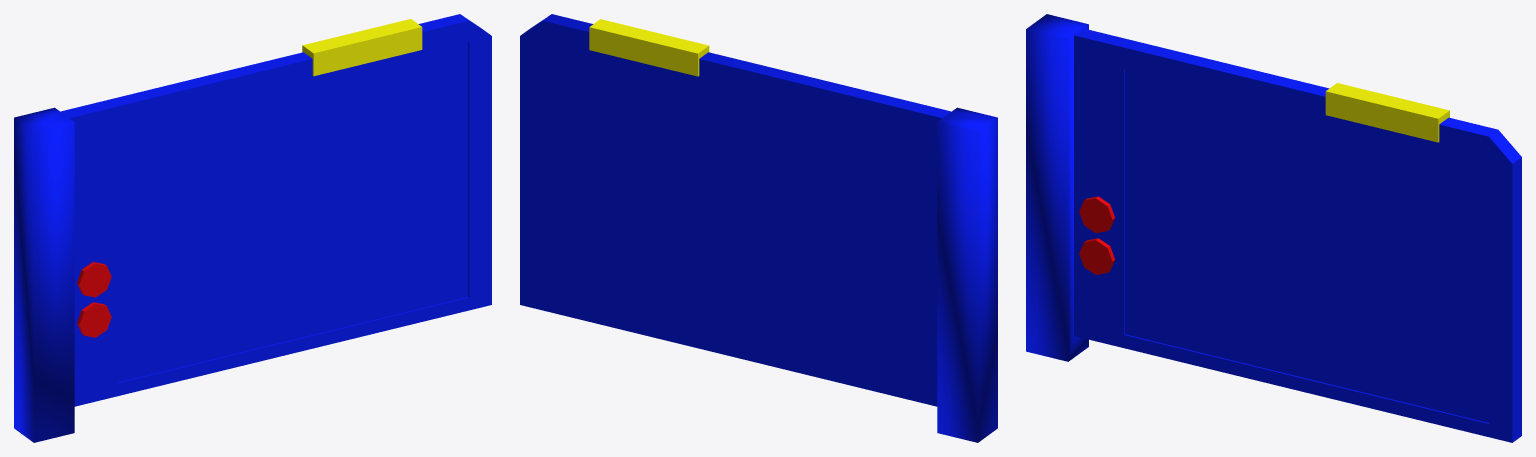
The model's file is Tablet67.fbx.
3 renders of one model, left to right at view 1: azimuth 30°, elevation 25°; view 2: azimuth 150°, elevation 25°; view 3: azimuth 330°, elevation 25°, orthographic. The views are drawn at different scales.
Visible parts, largest first — view 1: Cube.002, Cube.001; view 2: Cube.002, Cube.001; view 3: Cube.002, Cube.001.
Boxes of the visible parts, bbox=[...] form: Cube.002: bbox=[60, 14, 491, 406]; Cube.001: bbox=[14, 107, 74, 442]; Cube.002: bbox=[520, 14, 951, 406]; Cube.001: bbox=[937, 107, 997, 442]; Cube.002: bbox=[1074, 28, 1521, 442]; Cube.001: bbox=[1026, 14, 1088, 361].
Bounding box in the file's own units: 60.49 × 39.52 × 4.52.
